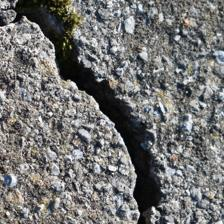Crack: (12, 4, 151, 211)
